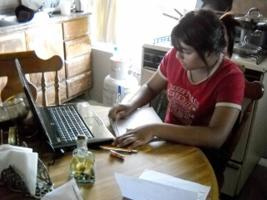person: (109, 10, 245, 154)
